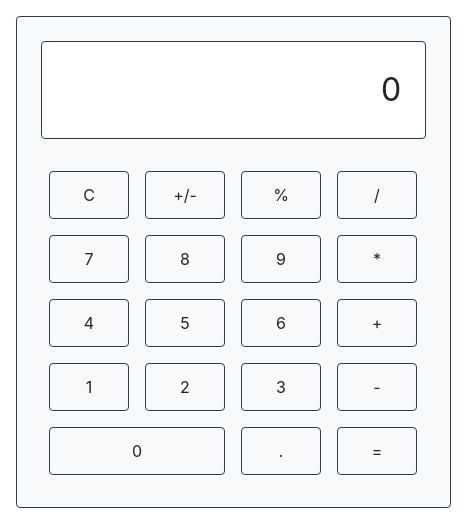
Test: basic button presses › should clear the input
Click the button "5" at (185, 323), box [145,299,225,347]
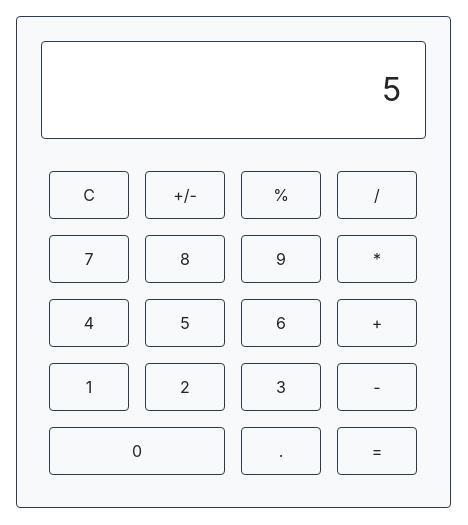
Click the button "3" at (281, 387), box [241,363,321,411]
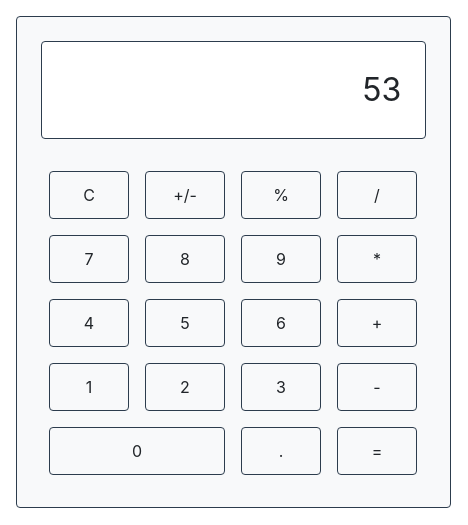
Now the text with class "displayValue" reads "53", box [362,70,401,109]
Click the button "C" at (89, 195), box [49,171,129,219]
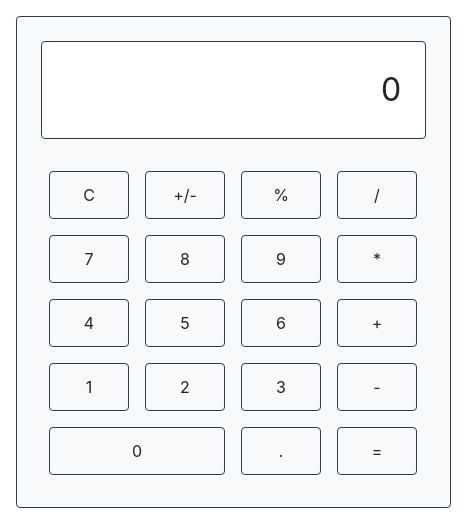
Now the text with class "displayValue" reads "0", box [381,70,401,109]
